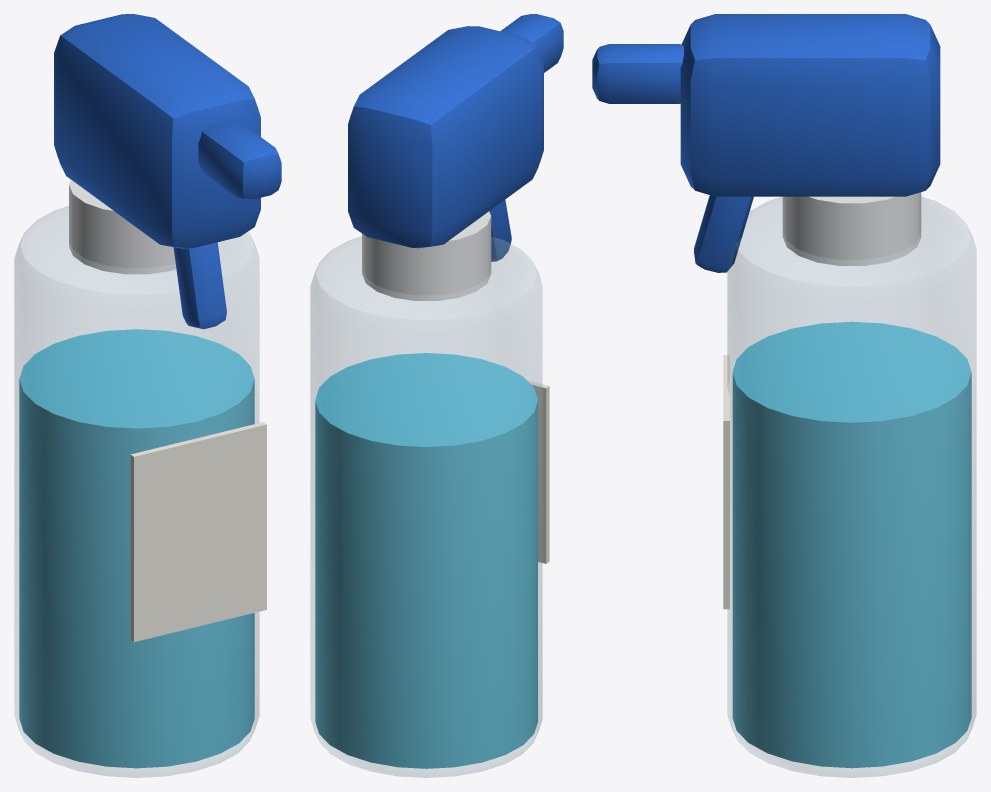
The model's file is spray_bottle.fbx.
The picture shows the model from 3 angles, left to right: view 1: azimuth 30°, elevation 25°; view 2: azimuth 150°, elevation 25°; view 3: azimuth 270°, elevation 25°; orthographic projection. The views are drawn at different scales.
Visible parts, largest first — view 1: spray_bottle; view 2: spray_bottle; view 3: spray_bottle.
Boxes of the visible parts, box(x1,y1,x2,y2) form: spray_bottle: box(14, 14, 281, 777); spray_bottle: box(310, 14, 563, 777); spray_bottle: box(592, 14, 976, 777).
Bounding box in the file's own units: 0.072 × 0.225 × 0.111.
